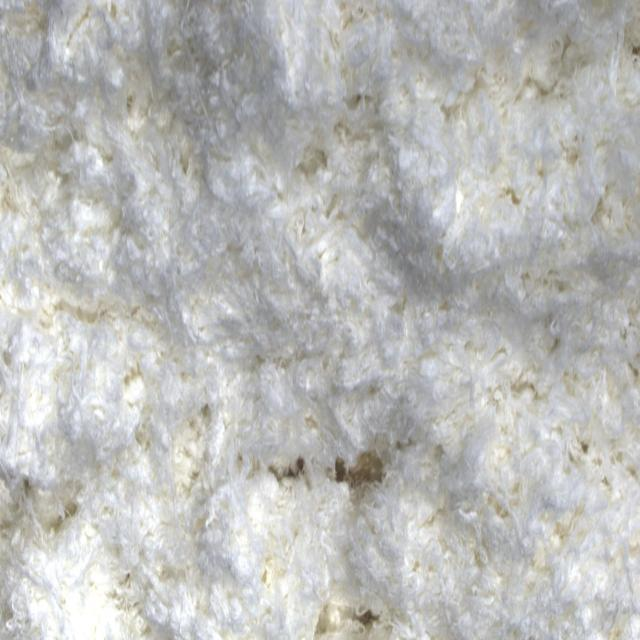dust: (331, 449, 393, 487)
